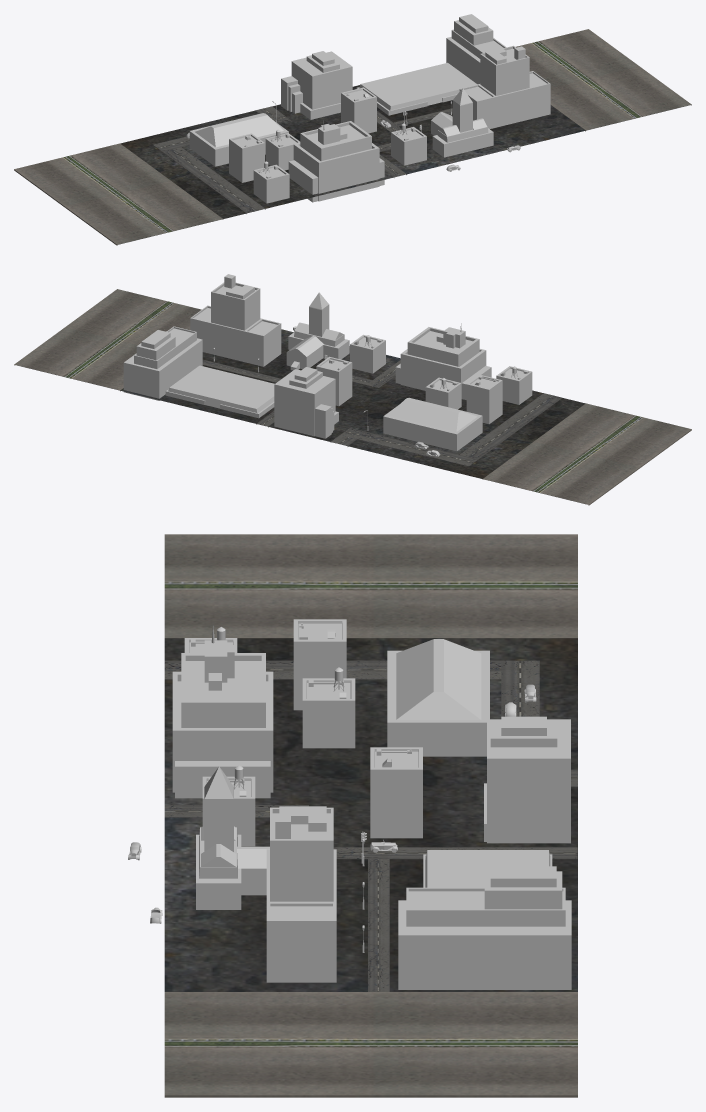
Rendered from Block_06.fbx.
The picture shows the model from 3 angles, top to bottom: view 1: azimuth 30°, elevation 25°; view 2: azimuth 150°, elevation 25°; view 3: azimuth 270°, elevation 25°; orthographic projection. The views are drawn at different scales.
Parts seen in each view (by area): view 1: pasted__polySurface1337; view 2: pasted__polySurface1337; view 3: pasted__polySurface1337.
Part boxes in pixels (x1,y1,x2,y2): pasted__polySurface1337: (14,14,691,245); pasted__polySurface1337: (14,274,691,505); pasted__polySurface1337: (128,534,577,1097).
Size of the model in its own units: 459 by 156 by 65.54.
